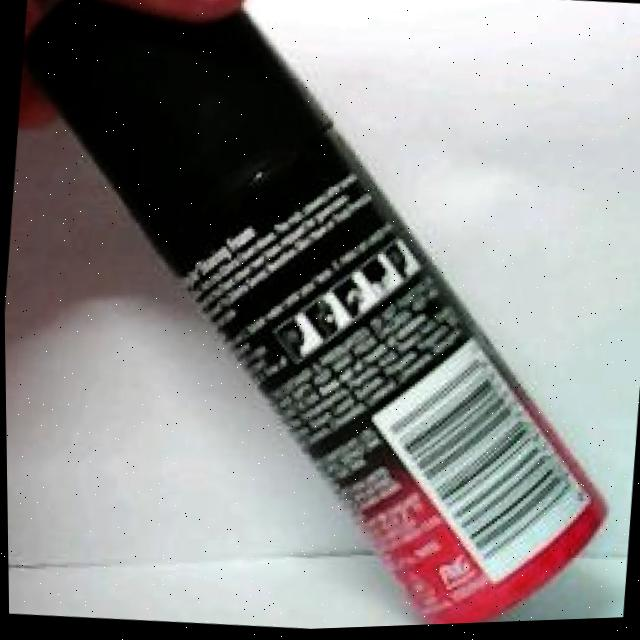gillette-foam: (22, 0, 606, 628)
